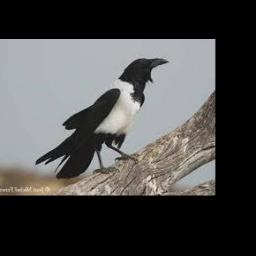Crow: (34, 57, 169, 180)
